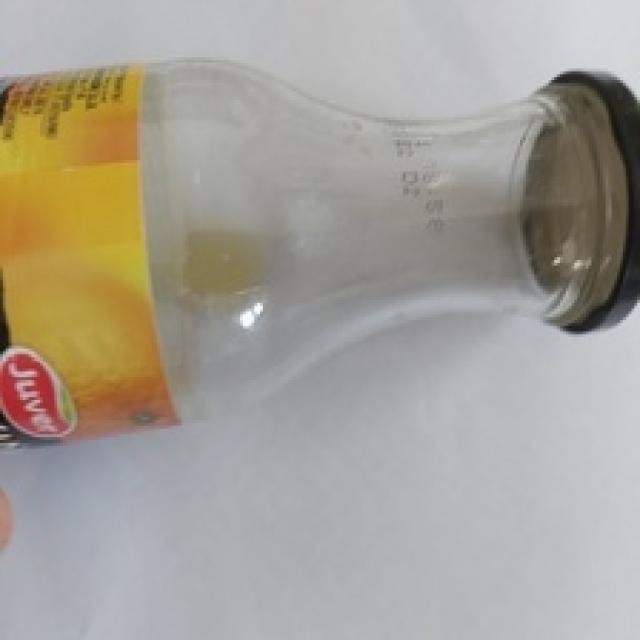Glass: (0, 54, 614, 450)
